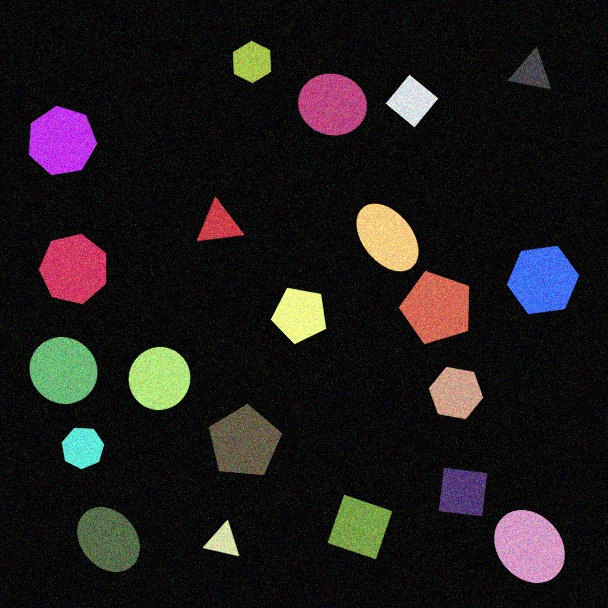Circulo: (29, 336, 98, 405), (297, 73, 368, 136), (128, 346, 191, 411)
Elipse: (493, 509, 566, 584), (76, 506, 141, 573), (356, 203, 419, 272)
Heptagono: (28, 105, 98, 176), (38, 233, 107, 305), (61, 427, 105, 470)
Hexagono: (506, 245, 580, 315), (428, 366, 484, 420), (232, 40, 272, 84)
Pentagono: (208, 403, 283, 476), (398, 270, 470, 345), (270, 287, 327, 345)
Quadrado: (327, 494, 393, 560), (385, 74, 439, 128), (438, 467, 488, 517)
Triangulo: (196, 197, 245, 242), (507, 47, 552, 90), (202, 520, 240, 557)
